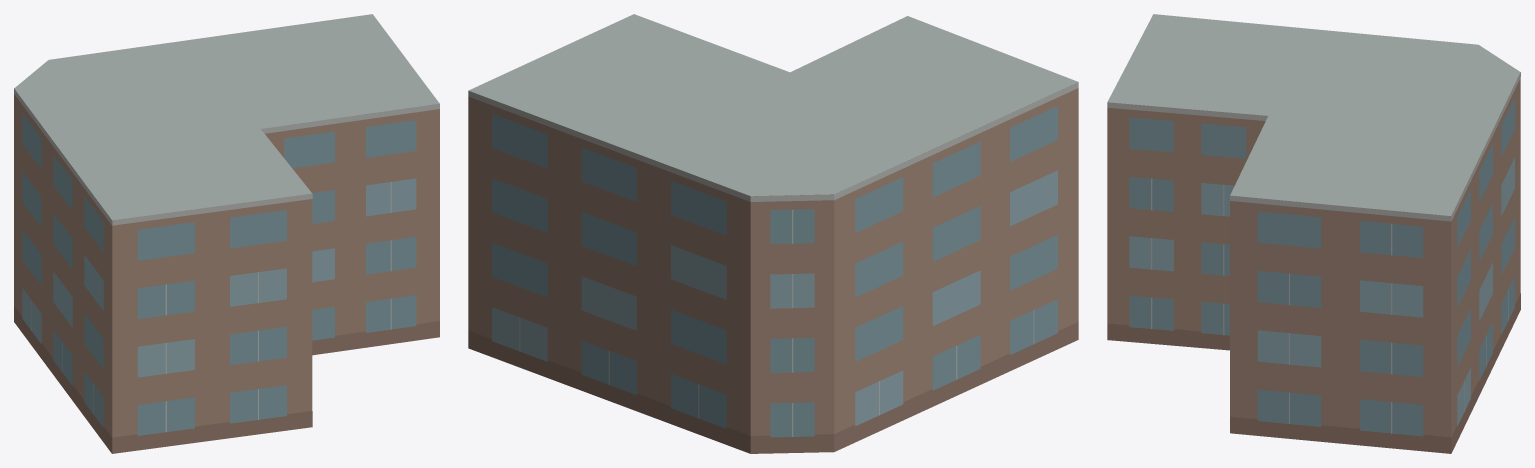
The model's file is survey-upis-32861477.glb.
3 views of the same model, side by side, from view 1: azimuth 30°, elevation 25°; view 2: azimuth 150°, elevation 25°; view 3: azimuth 270°, elevation 25° (orthographic). The views are drawn at different scales.
Visible parts, largest first — view 1: survey-upis-32861477.tmp; view 2: survey-upis-32861477.tmp; view 3: survey-upis-32861477.tmp.
Boxes of the visible parts, left/top/right/bottom form: survey-upis-32861477.tmp: left=14, top=14, right=439, bottom=453; survey-upis-32861477.tmp: left=468, top=14, right=1078, bottom=453; survey-upis-32861477.tmp: left=1107, top=14, right=1520, bottom=453.
Bounding box in the file's own units: 19.61 × 10.75 × 16.95.
